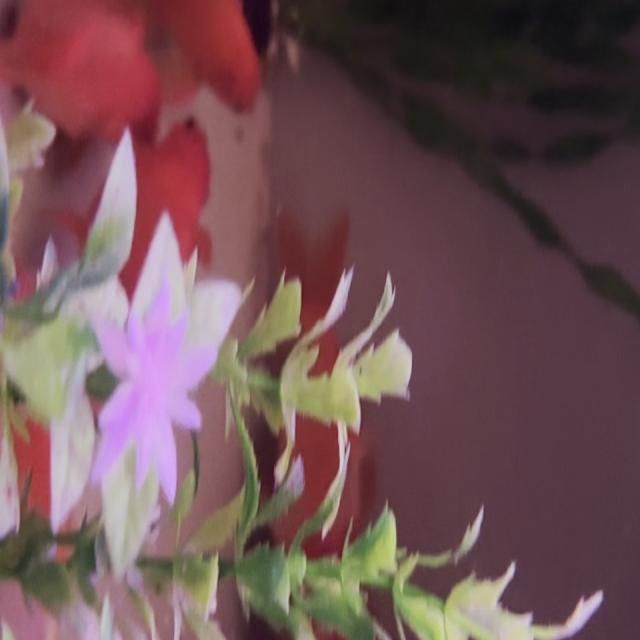fish: (16, 0, 302, 115), (40, 111, 239, 258), (0, 0, 159, 114)
